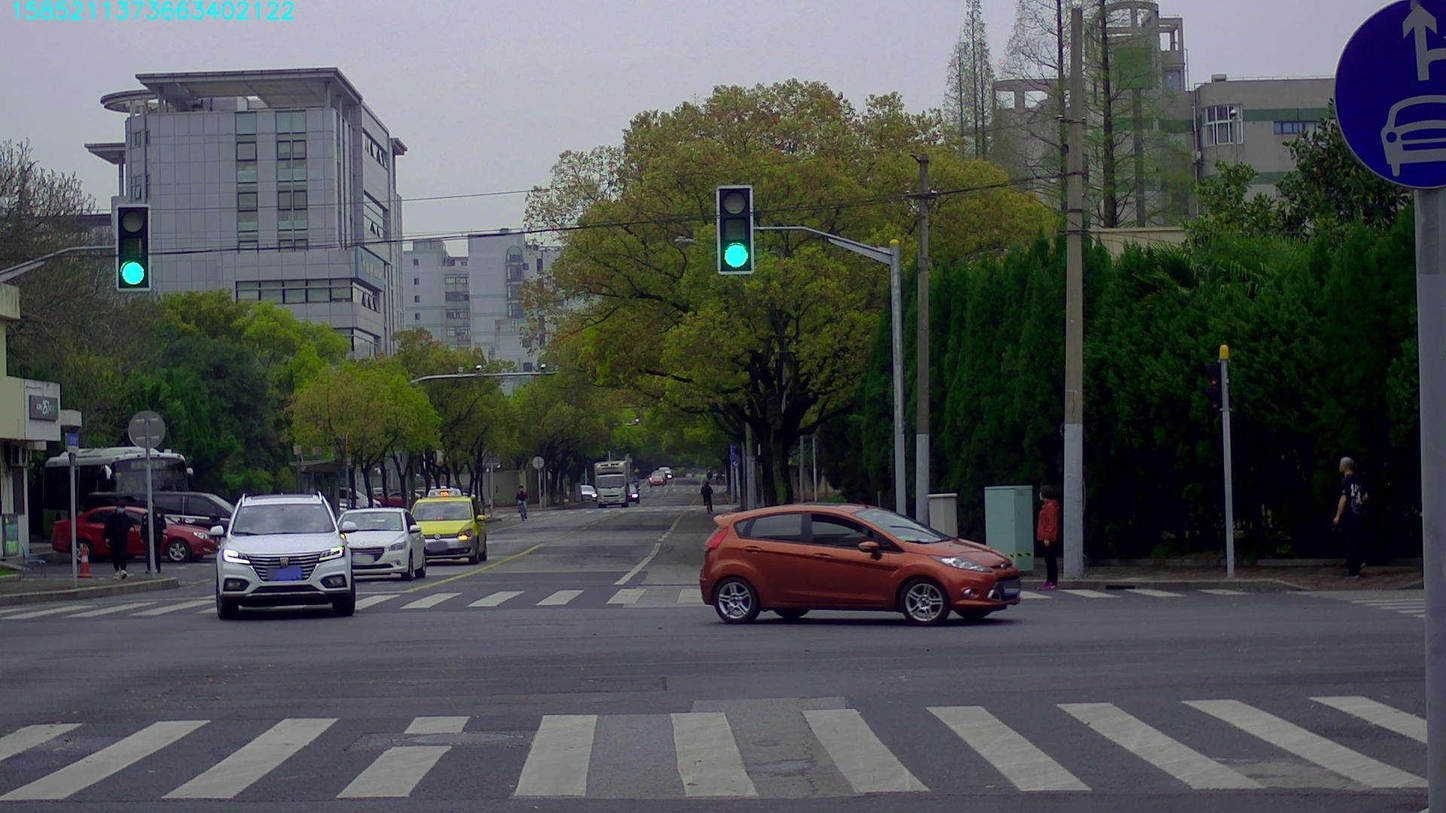green: (716, 187, 752, 274), (116, 206, 148, 291)
